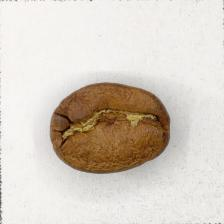NG: (61, 99, 169, 164)
